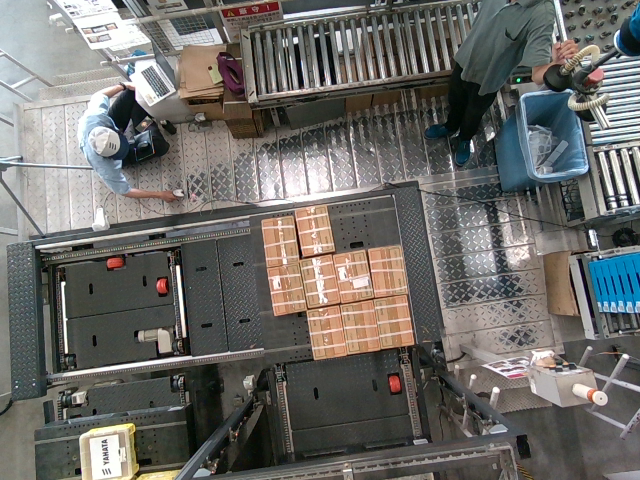box: (293, 204, 333, 254), (261, 214, 301, 264), (265, 263, 305, 313), (298, 255, 338, 305), (334, 251, 374, 301), (369, 245, 409, 295), (305, 307, 345, 357), (337, 301, 377, 351), (375, 295, 415, 345)
